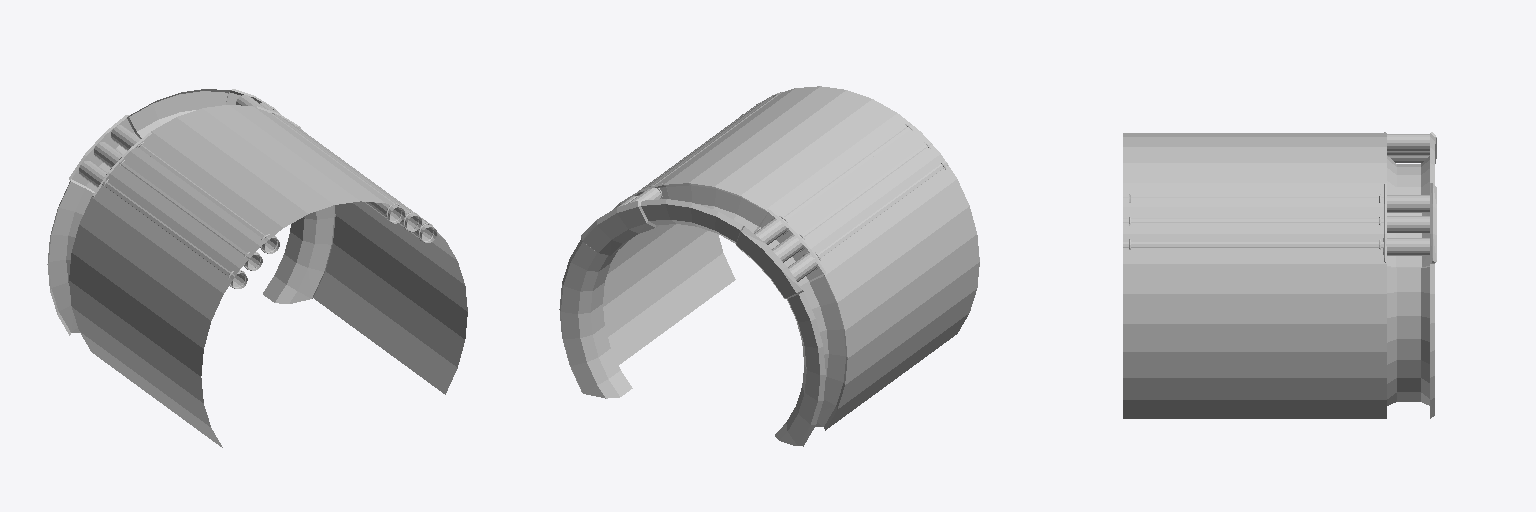
File: Hallway_Wall_01.obj
3 renders of one model, left to right at view 1: azimuth 30°, elevation 25°; view 2: azimuth 150°, elevation 25°; view 3: azimuth 270°, elevation 25°, orthographic.
Visible parts, largest first — view 1: Wall_01 Wall, Pipes Wall_01; view 2: Wall_01 Wall, Pipes Wall_01; view 3: Wall_01 Wall, Pipes Wall_01, Wall_01 Light.
Boxes of the visible parts, x1,y1,x2,y2 form: Wall_01 Wall: [47, 89, 467, 447]; Pipes Wall_01: [79, 95, 436, 288]; Wall_01 Wall: [559, 86, 979, 446]; Pipes Wall_01: [618, 92, 947, 281]; Wall_01 Wall: [1123, 132, 1436, 418]; Pipes Wall_01: [1123, 134, 1429, 255]; Wall_01 Light: [1397, 164, 1420, 194].
Bounding box in the file's own units: 100 × 77.78 × 102.